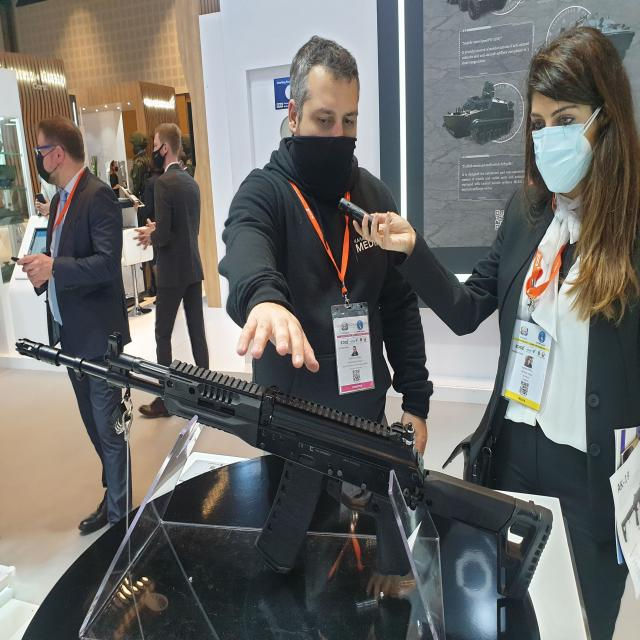Rifle: (14, 339, 554, 602)
